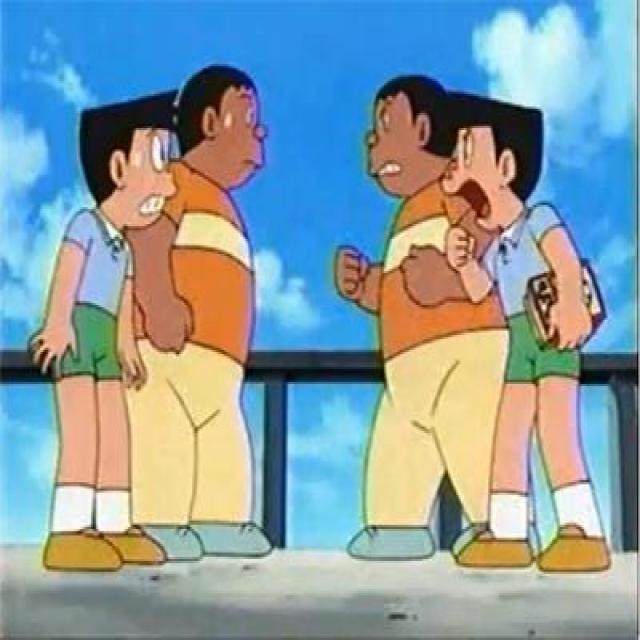jaian: (172, 62, 274, 190), (360, 70, 453, 198)
suneo: (440, 81, 542, 233), (76, 85, 174, 224)
